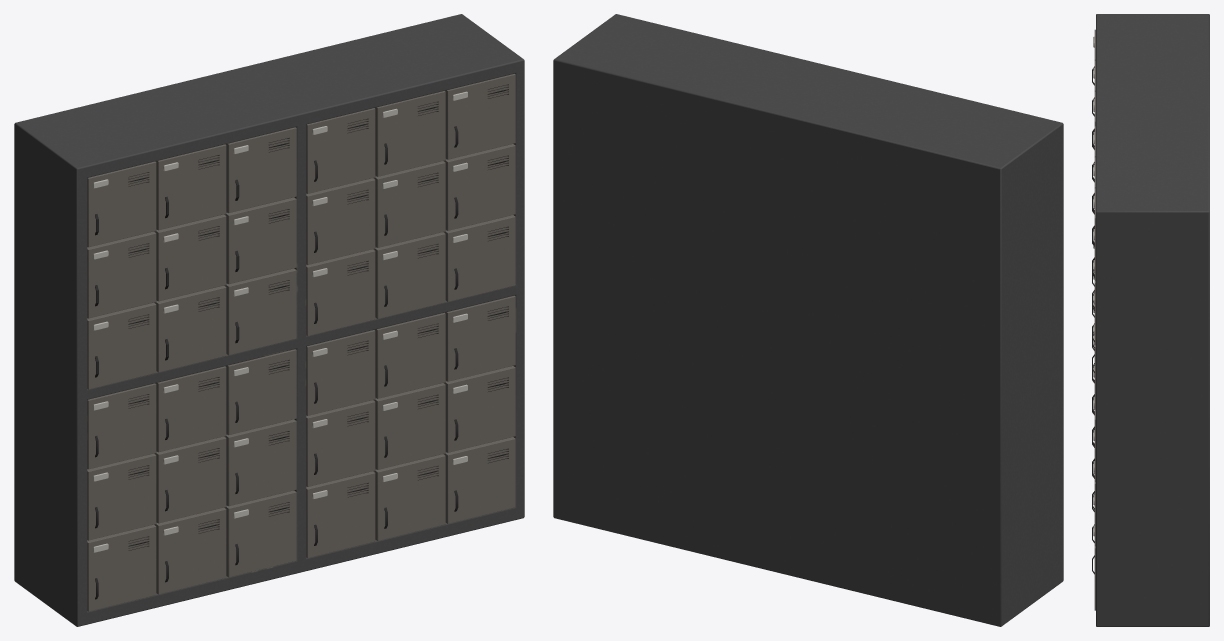
Rendered from school_locker_for_anime_schools.glb.
The picture shows the model from 3 angles, left to right: view 1: azimuth 30°, elevation 25°; view 2: azimuth 150°, elevation 25°; view 3: azimuth 270°, elevation 25°; orthographic projection. The views are drawn at different scales.
Parts seen in each view (by area): view 1: Plane.038, Plane.046, Plane.045, Plane.044, Plane.043, Plane.041, Plane.042; view 2: Plane.038; view 3: Plane.038, Plane.044, Plane.046, Plane.043.
Boxes of the visible parts, bbox=[...] form: Plane.038: bbox=[14, 14, 524, 626]; Plane.046: bbox=[306, 295, 515, 558]; Plane.045: bbox=[87, 349, 296, 611]; Plane.044: bbox=[306, 74, 515, 336]; Plane.043: bbox=[87, 127, 296, 389]; Plane.041: bbox=[128, 155, 225, 550]; Plane.042: bbox=[347, 102, 444, 497]; Plane.038: bbox=[553, 14, 1063, 626]; Plane.038: bbox=[1096, 14, 1209, 626]; Plane.044: bbox=[1092, 126, 1095, 409]; Plane.046: bbox=[1092, 335, 1095, 610]; Plane.043: bbox=[1092, 29, 1095, 275].
Bounding box in the file's own units: 2.03 × 1.99 × 0.5116.
2 materials, 1 textured.
